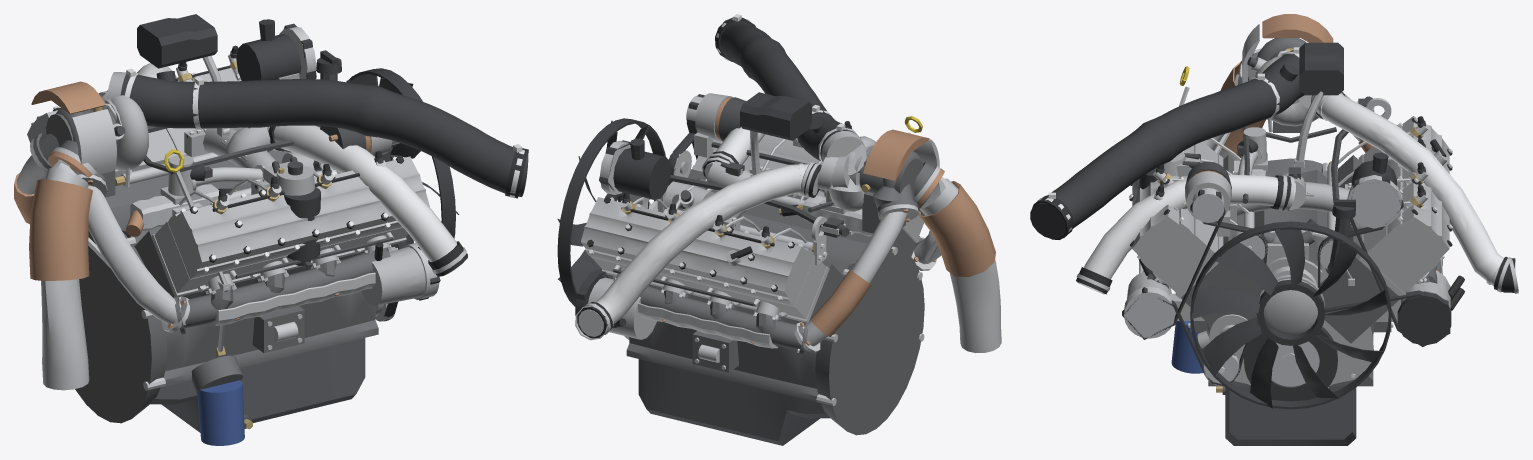
File: Duramax_LLY_2005_66L_V8.glb
3 renders of one model, left to right at view 1: azimuth 30°, elevation 25°; view 2: azimuth 150°, elevation 25°; view 3: azimuth 270°, elevation 25°, orthographic. The views are drawn at different scales.
Parts seen in each view (by area): view 1: ext_block, ext_intake_duct, 02_turbo_downpipe, ext_vc_upper_rh, 03_turbo_unit, ext_pan, ext_charge_cold, 00_ext_uppipe_rh, ext_exh_manifold_rh, ext_ps_pump, ext_resonator, ext_vacuum_pump (+25 smaller); view 2: ext_block, ext_charge_hot, ext_pan, 02_turbo_downpipe, ext_vc_upper_lh, 03_turbo_unit, 01_ext_uppipe_lh, ext_intake_duct, ext_fan, ext_exh_manifold_lh, ext_ps_pump, ext_resonator (+22 smaller); view 3: ext_fan, ext_intake_duct, ext_block, ext_charge_hot, ext_pan, ext_charge_cold, 03_turbo_unit, ext_damper, ext_belt, ext_vacuum_pump, ext_vc_upper_lh, ext_ps_pump (+25 smaller).
Boxes of the visible parts, box(x1,y1,x2,y2) form: ext_block: box(75, 150, 401, 445); ext_intake_duct: box(191, 79, 528, 198); 02_turbo_downpipe: box(29, 151, 109, 390); ext_vc_upper_rh: box(176, 156, 429, 269); 03_turbo_unit: box(31, 72, 148, 197); ext_pan: box(150, 338, 365, 432); ext_charge_cold: box(267, 125, 467, 276); 00_ext_uppipe_rh: box(78, 174, 189, 332); ext_exh_manifold_rh: box(174, 247, 393, 334); ext_ps_pump: box(236, 19, 316, 80); ext_resonator: box(137, 14, 217, 68); ext_vacuum_pump: box(361, 241, 439, 306); ext_block: box(606, 169, 924, 435); ext_charge_hot: box(575, 161, 821, 340); ext_pan: box(638, 359, 830, 445); 02_turbo_downpipe: box(917, 168, 1001, 352); ext_vc_upper_lh: box(581, 197, 806, 297); 03_turbo_unit: box(817, 129, 940, 233); 01_ext_uppipe_lh: box(794, 204, 918, 353); ext_intake_duct: box(715, 17, 833, 146); ext_fan: box(557, 118, 665, 306); ext_exh_manifold_lh: box(613, 278, 808, 355); ext_ps_pump: box(599, 138, 671, 199); ext_resonator: box(740, 92, 811, 140); ext_fan: box(1190, 221, 1391, 409); ext_intake_duct: box(1030, 77, 1280, 239); ext_block: box(1171, 155, 1399, 386); ext_charge_hot: box(1311, 91, 1518, 293); ext_pan: box(1225, 386, 1356, 445); ext_charge_cold: box(1076, 174, 1295, 294); 03_turbo_unit: box(1238, 14, 1333, 132); ext_damper: box(1244, 326, 1337, 401); ext_belt: box(1122, 176, 1450, 385); ext_vacuum_pump: box(1124, 259, 1204, 338); ext_vc_upper_lh: box(1402, 116, 1449, 258); ext_ps_pump: box(1347, 152, 1401, 228).
Size of the model in its own units: 0.8903 by 0.7795 by 1.03.
